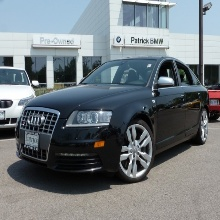no damage: (15, 58, 210, 182), (1, 66, 35, 132)
